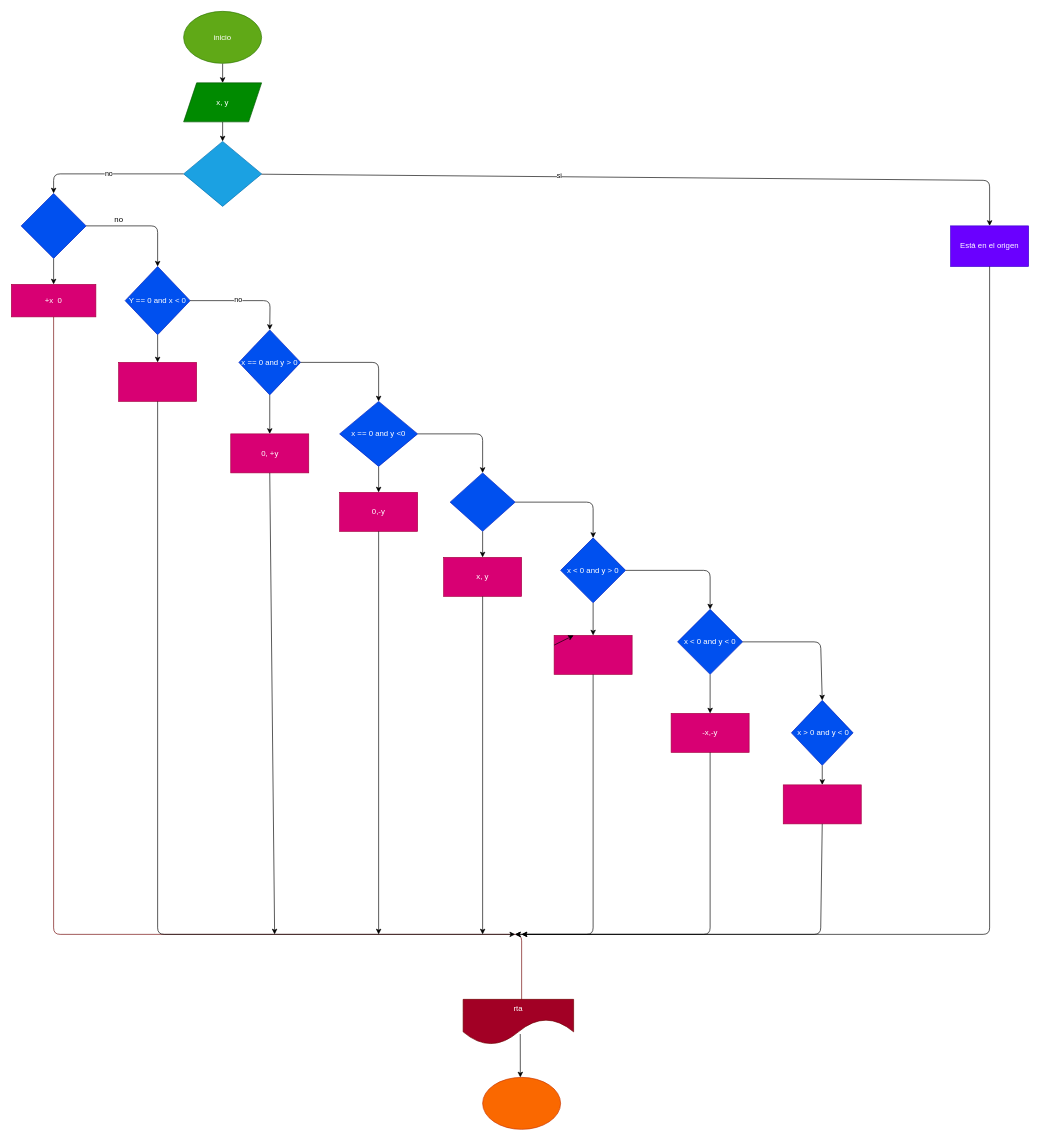
Some shapes in this 1040 by 1141 pixel diagram are drawn without their labels. The centre of each missing label's shape, as x and y in pixels:
"-x, 0" belongs at pixel 157 381.
"-x,y" belongs at pixel 592 654.
"fin" belongs at pixel 521 1103.
"x > 0 and y > 0" belongs at pixel 482 501.
"x,-y" belongs at pixel 822 804.
"y = 0 and x = 0" belongs at pixel 222 173.
"y = 0 and x > 0" belongs at pixel 53 225.
